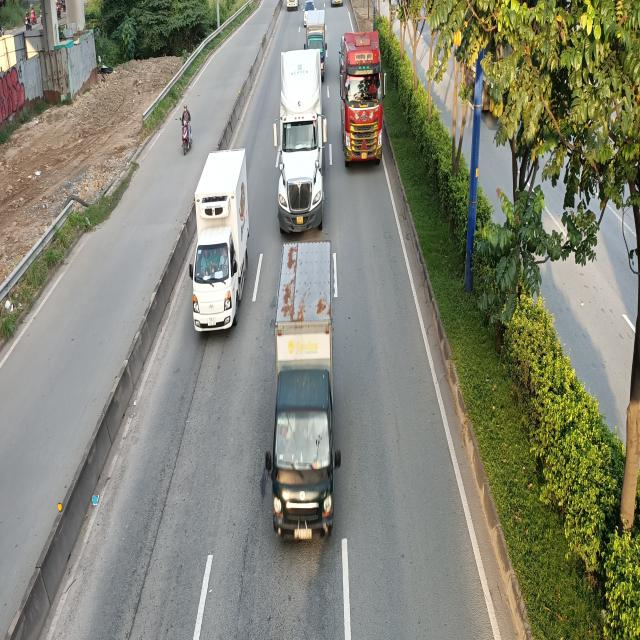container: (272, 50, 328, 234), (338, 31, 385, 168)
truck: (264, 247, 338, 550), (190, 148, 252, 332)
